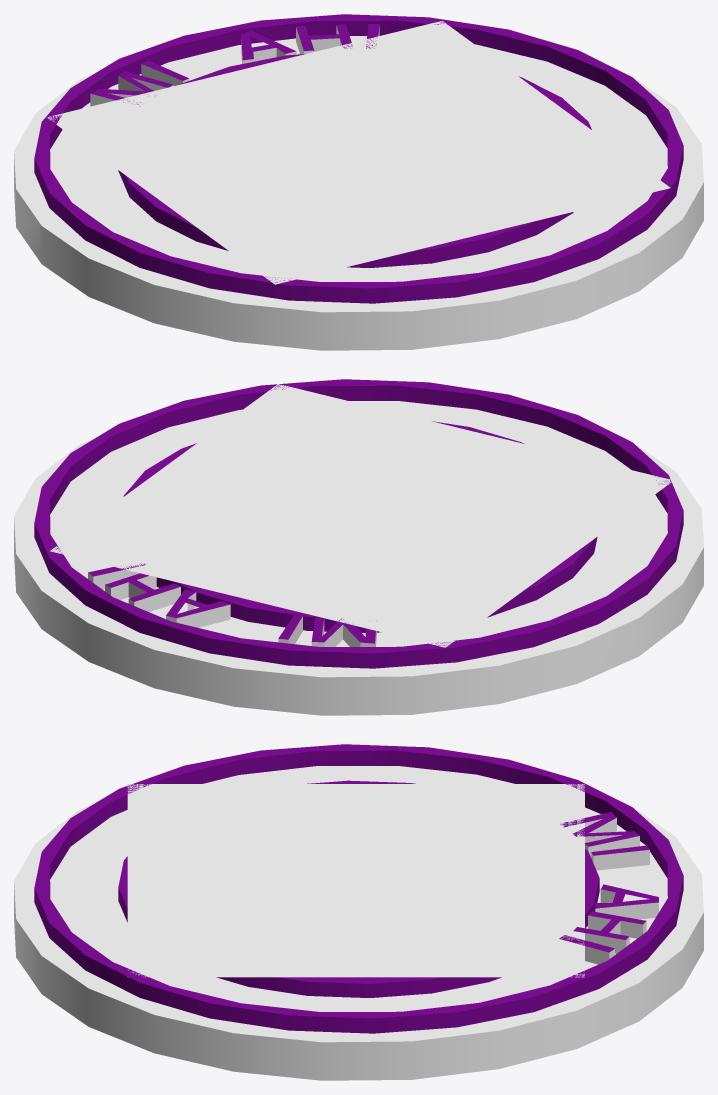
File: mirahi-face.gltf
The picture shows the model from 3 angles, top to bottom: view 1: azimuth 30°, elevation 25°; view 2: azimuth 150°, elevation 25°; view 3: azimuth 270°, elevation 25°; orthographic projection.
Parts seen in each view (by area): view 1: image_0, SketchUp, ID11, ID17, ID37, ID25, ID31, ID43, ID79, ID97, ID49; view 2: image_0, SketchUp, ID37, ID11, ID17, ID25, ID31, ID103, ID91, ID43, ID79, ID49 (+1 smaller); view 3: image_0, ID37, SketchUp, ID17, ID11, ID25, ID31, ID103, ID43, ID91, ID49, ID61 (+2 smaller).
Boxes of the visible parts, left/top/right/bottom form: image_0: left=47, top=21, right=670, bottom=284; SketchUp: left=14, top=70, right=703, bottom=350; ID11: left=50, top=36, right=667, bottom=281; ID17: left=34, top=14, right=683, bottom=303; ID37: left=143, top=57, right=575, bottom=244; ID25: left=50, top=20, right=667, bottom=165; ID31: left=118, top=54, right=591, bottom=267; ID43: left=91, top=71, right=172, bottom=106; ID79: left=241, top=31, right=295, bottom=60; ID97: left=296, top=24, right=352, bottom=50; ID49: left=90, top=76, right=173, bottom=106; image_0: left=50, top=384, right=673, bottom=647; SketchUp: left=14, top=435, right=703, bottom=715; ID37: left=143, top=422, right=582, bottom=610; ID11: left=50, top=401, right=667, bottom=646; ID17: left=34, top=379, right=683, bottom=668; ID25: left=50, top=385, right=667, bottom=530; ID31: left=123, top=421, right=597, bottom=632; ID103: left=105, top=575, right=180, bottom=611; ID91: left=166, top=592, right=230, bottom=627; ID43: left=311, top=617, right=375, bottom=643; ID79: left=166, top=589, right=229, bottom=618; ID49: left=311, top=619, right=376, bottom=646; image_0: left=127, top=784, right=584, bottom=977; ID37: left=135, top=787, right=582, bottom=975; SketchUp: left=14, top=800, right=703, bottom=1080; ID17: left=34, top=744, right=683, bottom=1033; ID11: left=50, top=766, right=667, bottom=1011; ID25: left=50, top=750, right=667, bottom=895; ID31: left=118, top=780, right=599, bottom=997; ID103: left=585, top=915, right=646, bottom=953; ID43: left=560, top=812, right=639, bottom=846; ID91: left=595, top=889, right=658, bottom=919; ID49: left=585, top=818, right=639, bottom=857; ID61: left=591, top=850, right=649, bottom=870.
Size of the model in its own units: 8.93 by 0.7652 by 8.93.
